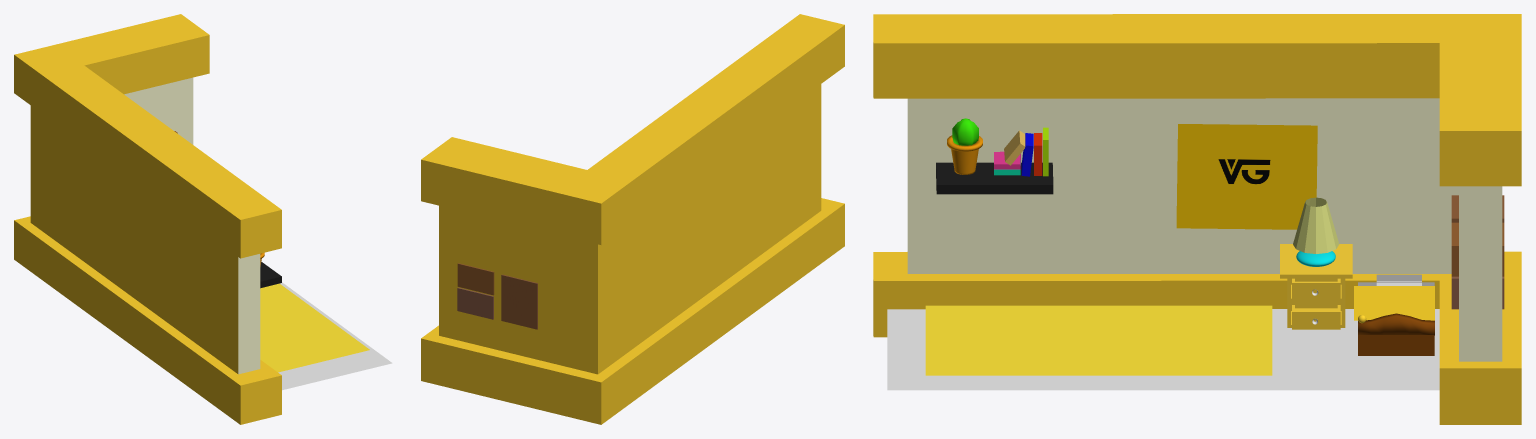
File: RoomPractice.glb
The picture shows the model from 3 angles, left to right: view 1: azimuth 30°, elevation 25°; view 2: azimuth 150°, elevation 25°; view 3: azimuth 270°, elevation 25°; orthographic projection. The views are drawn at different scales.
Parts seen in each view (by area): view 1: pared, alfombra, pisodebajo, estanteria; view 2: pared, ventana1, ventana2, ventana3; view 3: pared, alfombra, pisodebajo, Poster, mesa, estanteria, Plane.008, PantallaLampara, Plane.001, Plane.006, maceta, Cactus (+1 smaller).
Part boxes in pixels (x1,y1,x2,y2): pared: (14,14,281,424); alfombra: (260,283,369,372); pisodebajo: (278,282,392,390); estanteria: (260,262,281,288); pared: (421,14,844,424); ventana1: (501,274,537,329); ventana2: (457,263,494,295); ventana3: (457,287,493,319); pared: (873,14,1521,424); alfombra: (925,305,1272,375); pisodebajo: (887,309,1439,390); Poster: (1176,124,1317,229); mesa: (1280,244,1352,329); estanteria: (936,162,1053,194); Plane.008: (1354,286,1434,320); PantallaLampara: (1293,197,1339,253); Plane.001: (1358,335,1434,355); Plane.006: (1358,313,1434,335); maceta: (947,135,982,174); Cactus: (952,118,978,145).
Size of what is drawn, in the model's own units: 2.66 by 3.12 by 6.24.
28 materials, 1 textured.
